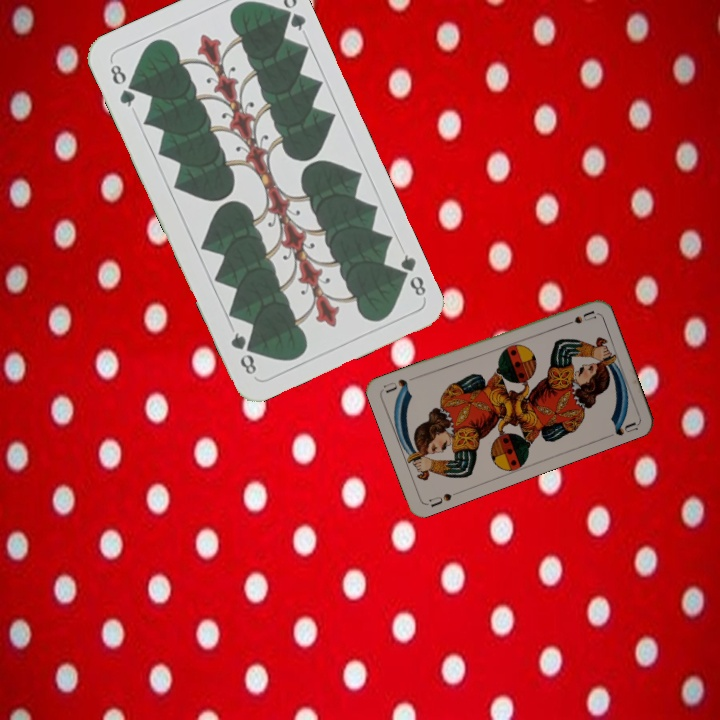G8: (392, 250, 429, 299), (106, 57, 138, 110)
SU: (558, 306, 597, 329), (423, 489, 454, 510)
